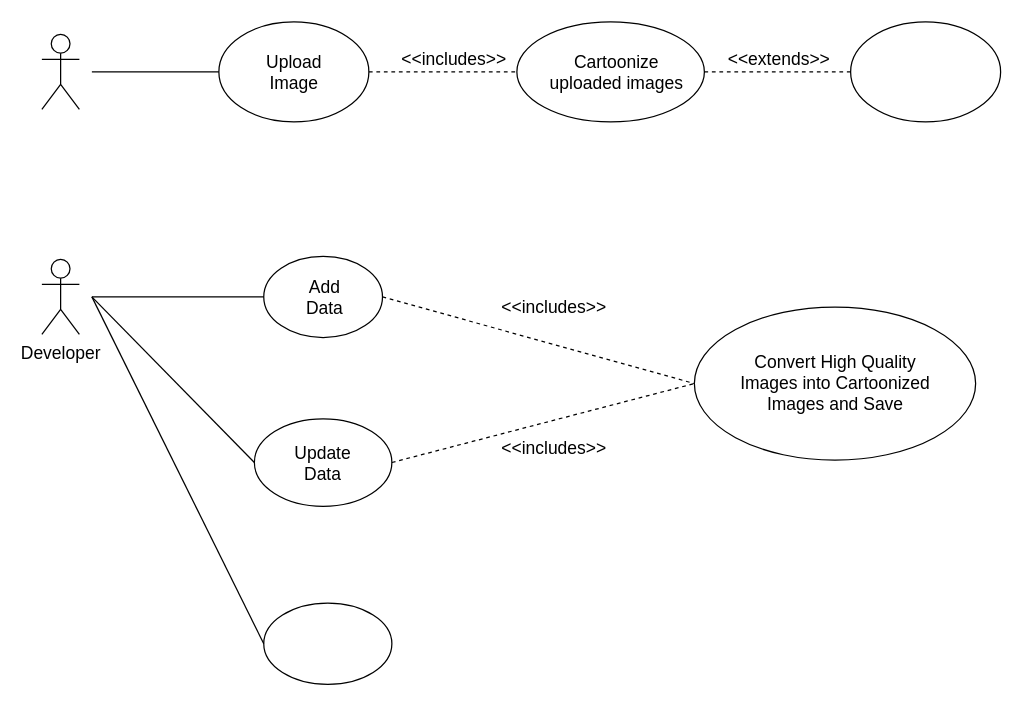
This 1023x706 diagram has some shape labels left out. The box of each missing label's shape, as (x1, y1, x2, y2) in pixels:
Delete Data: (262, 602, 392, 684)
Save Image: (849, 21, 1001, 122)
User: (41, 33, 79, 109)
